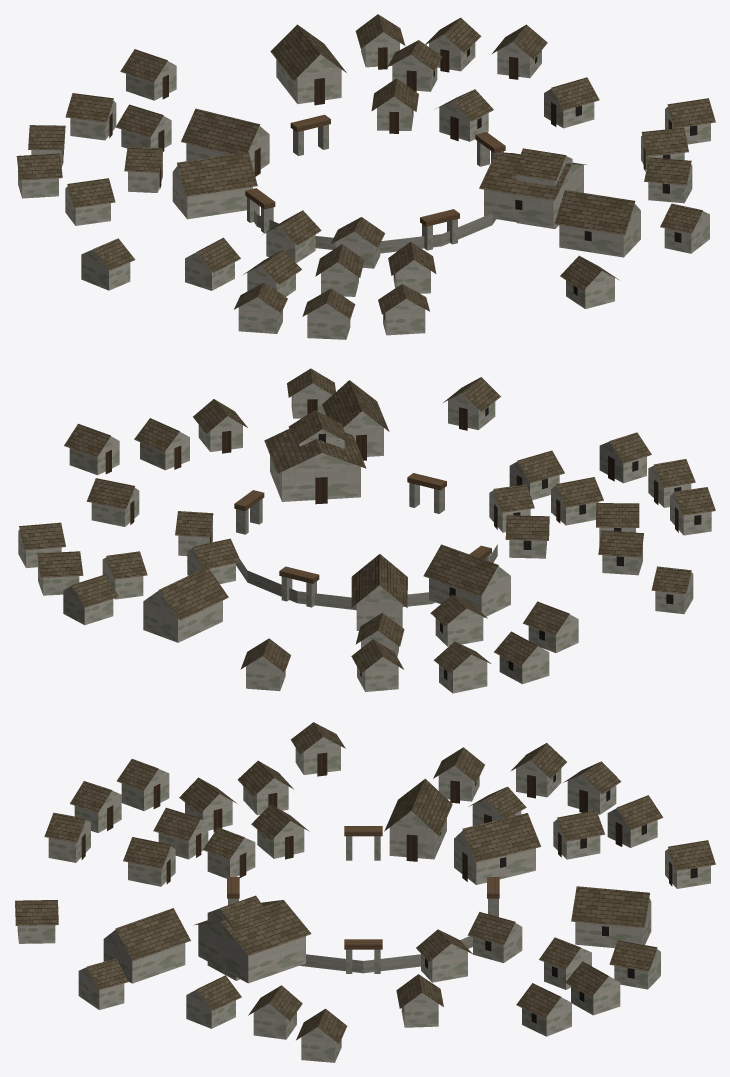
The model's file is ae_forest_neighbourhood_stone_lod2.glb.
The picture shows the model from 3 angles, top to bottom: view 1: azimuth 30°, elevation 25°; view 2: azimuth 150°, elevation 25°; view 3: azimuth 270°, elevation 25°; orthographic projection.
Visible parts, largest first — view 1: ae_forest_neighbourhood_stone_lod2; view 2: ae_forest_neighbourhood_stone_lod2; view 3: ae_forest_neighbourhood_stone_lod2.
Boxes of the visible parts, box(x1,y1,x2,y2) form: ae_forest_neighbourhood_stone_lod2: box(16, 14, 715, 339); ae_forest_neighbourhood_stone_lod2: box(18, 368, 715, 693); ae_forest_neighbourhood_stone_lod2: box(15, 722, 715, 1062).
Size of the model in its own units: 1.89 by 0.1882 by 1.82.
1 material, 1 textured.
